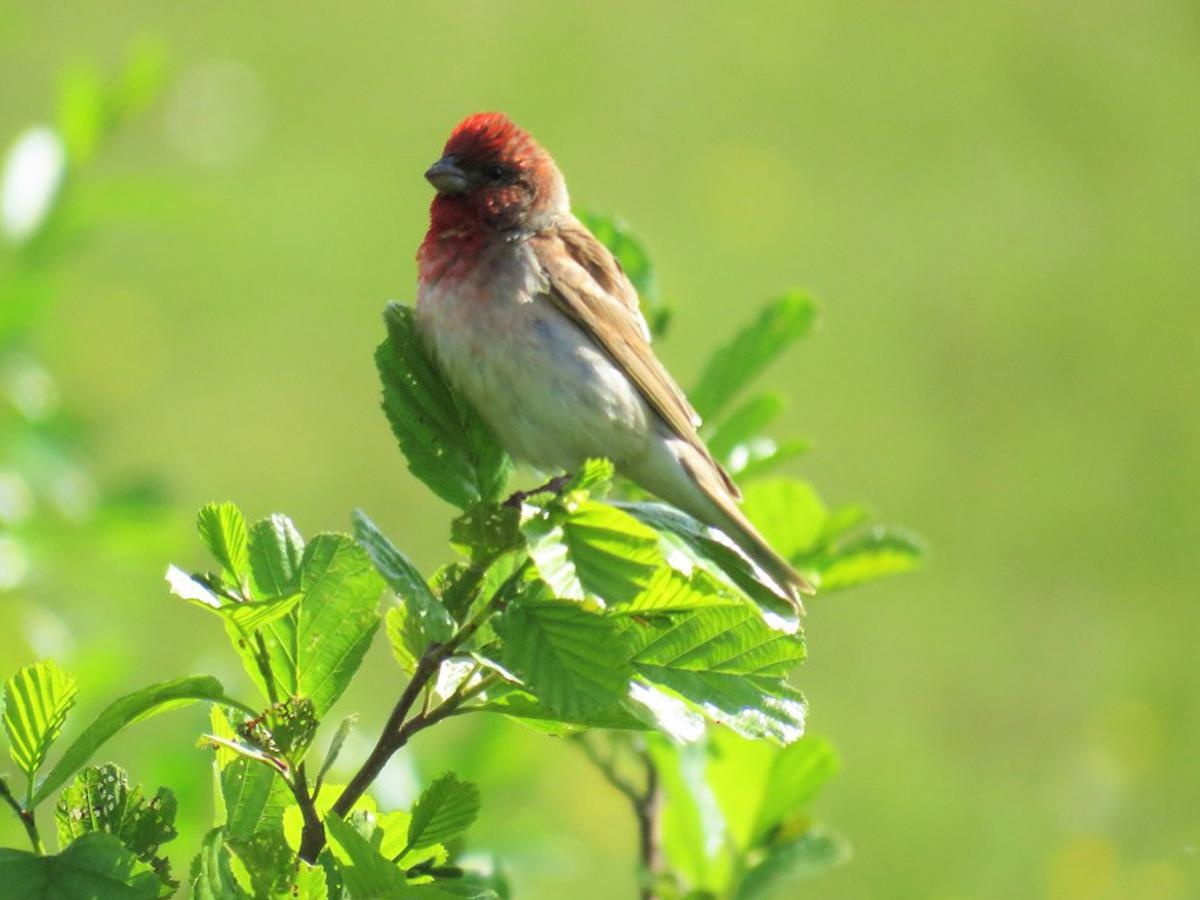rosefinch: (407, 105, 755, 514)
